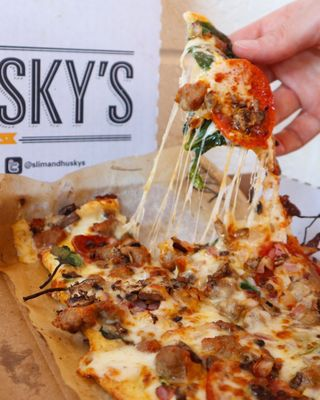sandwich: (5, 163, 320, 400), (174, 11, 279, 154)
